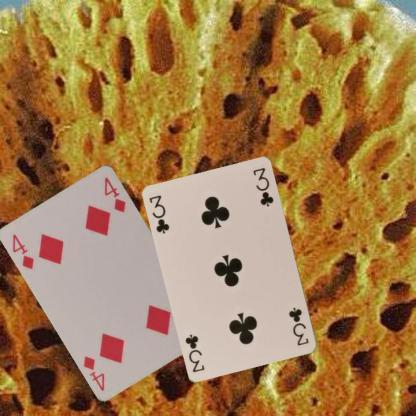3c: (286, 304, 310, 348), (147, 192, 171, 235)
4d: (10, 231, 36, 271)
